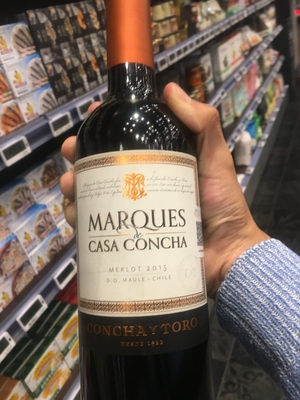marques de casa concha merlot: (61, 22, 214, 388)
